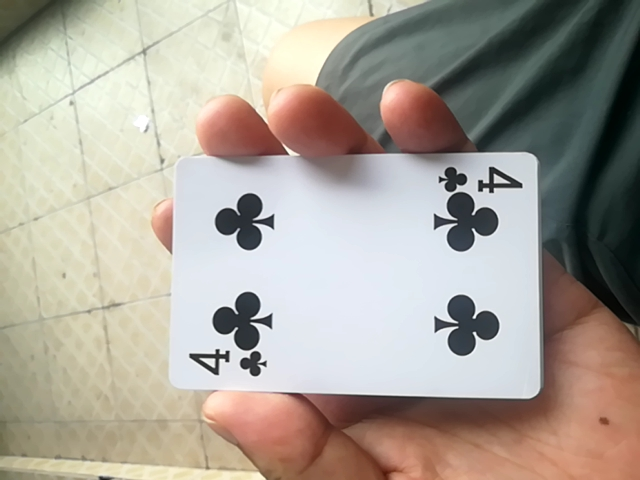mh 4: (169, 141, 542, 410)
